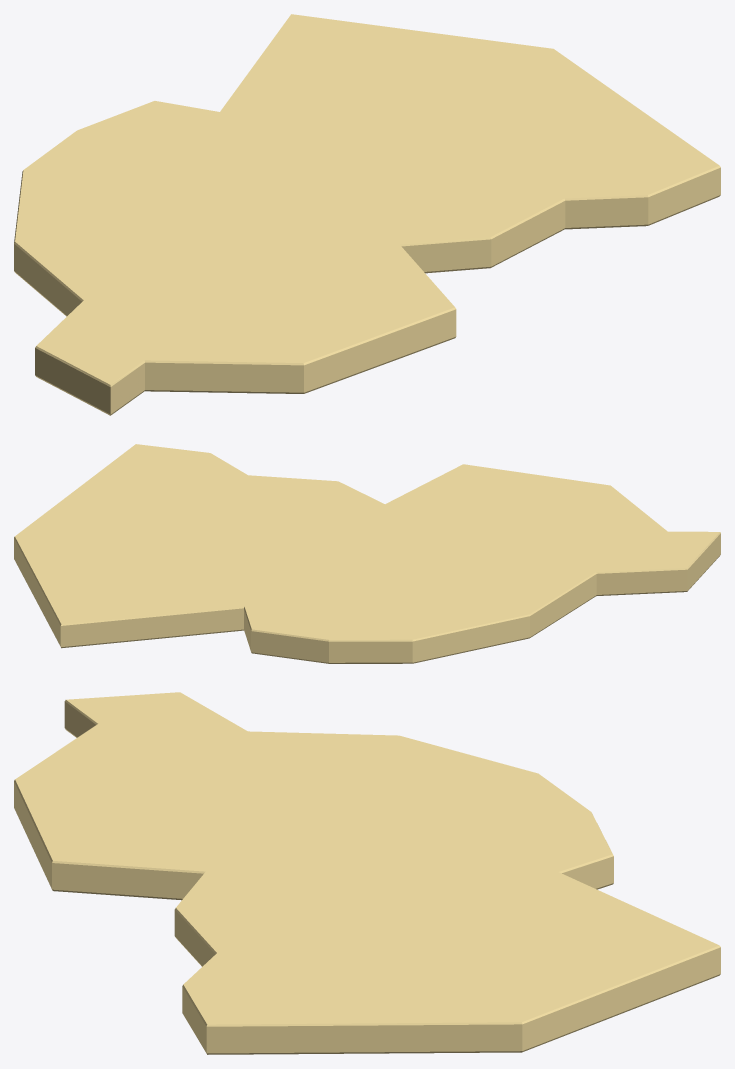
File: RWA.glb
The picture shows the model from 3 angles, top to bottom: view 1: azimuth 30°, elevation 25°; view 2: azimuth 150°, elevation 25°; view 3: azimuth 270°, elevation 25°; orthographic projection. The views are drawn at different scales.
Size of the model in its own units: 1.61 by 0.068 by 1.44.
